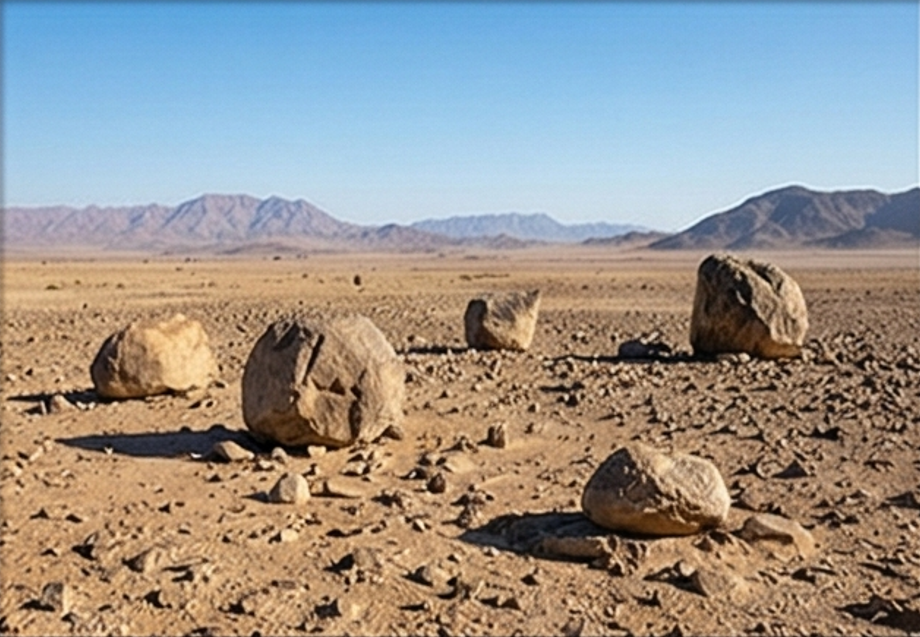rocks: (243, 316, 405, 446), (583, 443, 730, 535), (690, 254, 808, 358), (91, 314, 216, 397), (465, 290, 540, 350)
